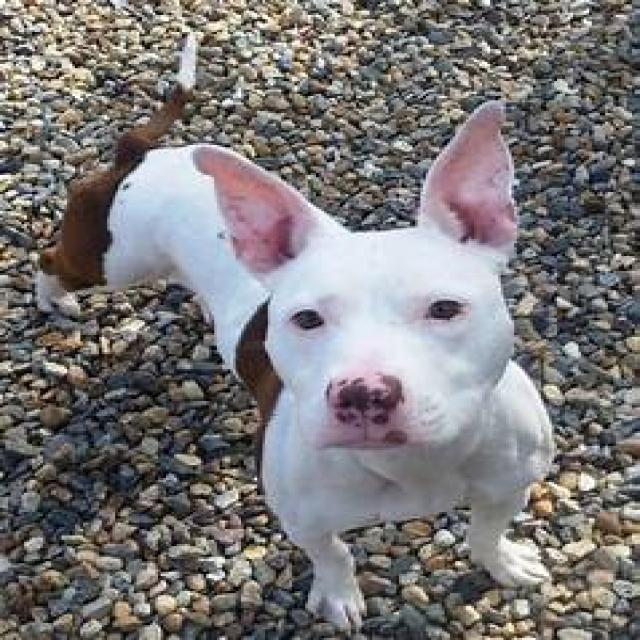dog: (39, 90, 554, 632)
